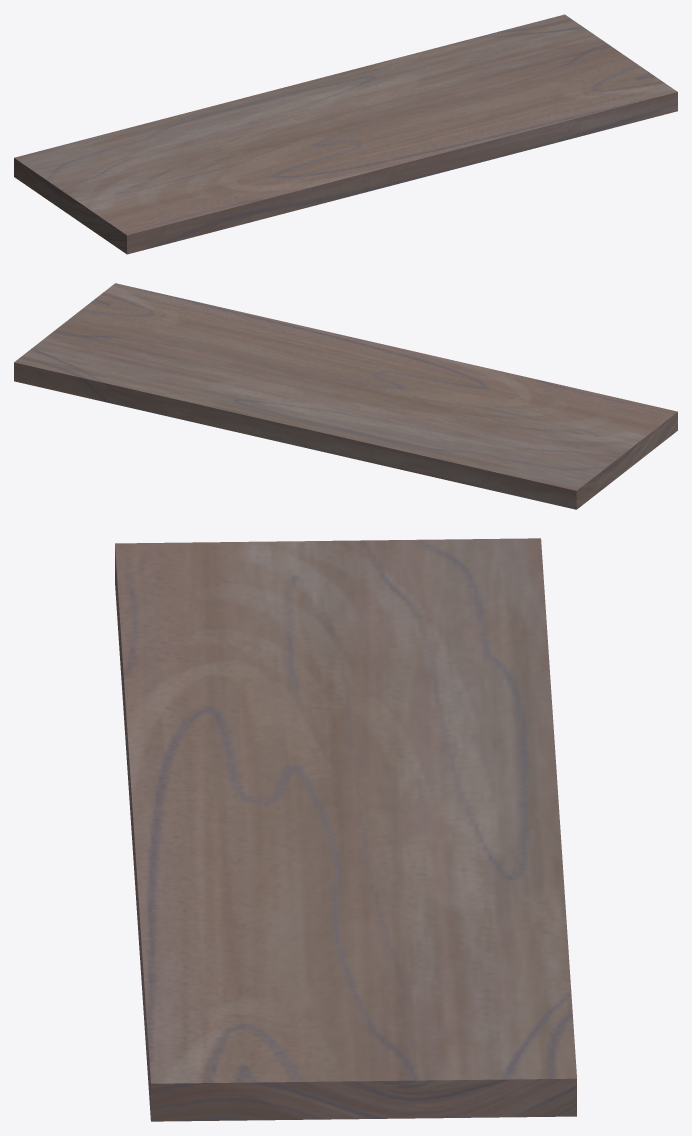
File: plank_027.fbx
3 views of the same model, one above another, from view 1: azimuth 30°, elevation 25°; view 2: azimuth 150°, elevation 25°; view 3: azimuth 270°, elevation 25° (orthographic). The views are drawn at different scales.
Visible parts, largest first — view 1: plank.027; view 2: plank.027; view 3: plank.027.
Boxes of the visible parts, x1,y1,x2,y2 form: plank.027: (14, 14, 677, 254); plank.027: (14, 283, 677, 509); plank.027: (115, 538, 576, 1121).
Size of the model in its own units: 30.75 by 0.9957 by 11.01.
